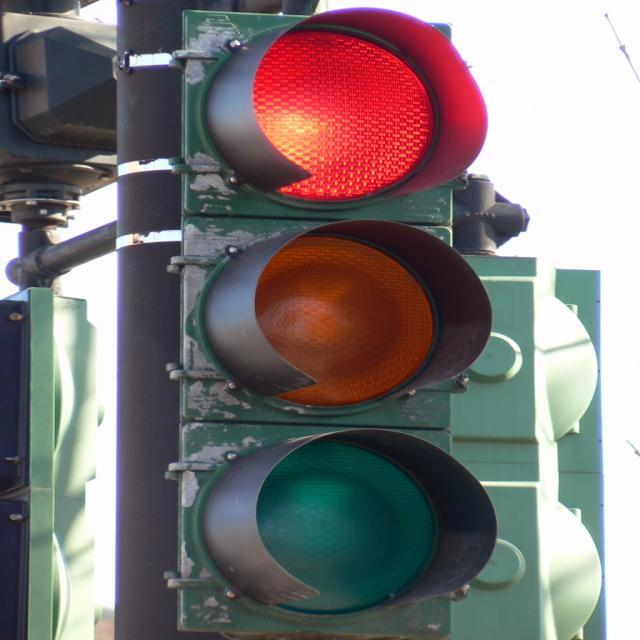traffic light: (184, 8, 474, 633)
